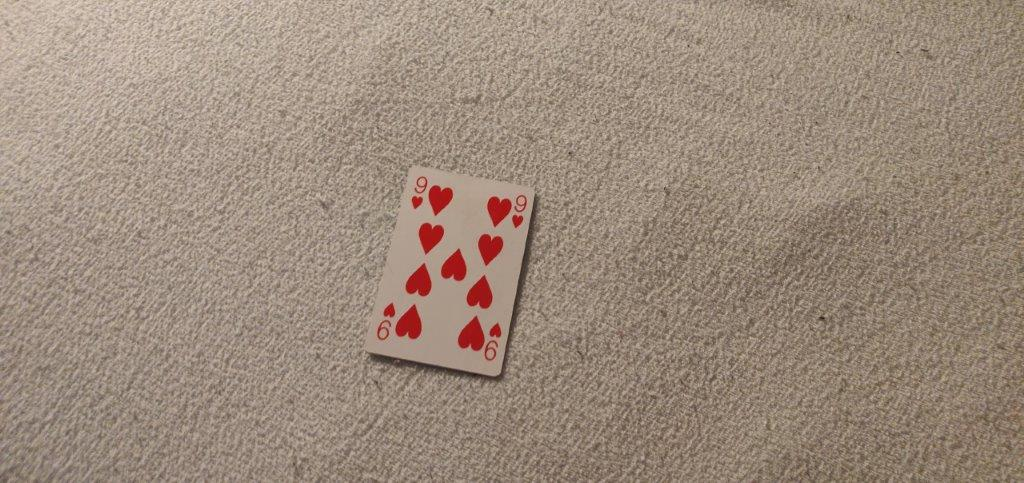9H: (508, 192, 529, 233), (409, 175, 428, 211)
